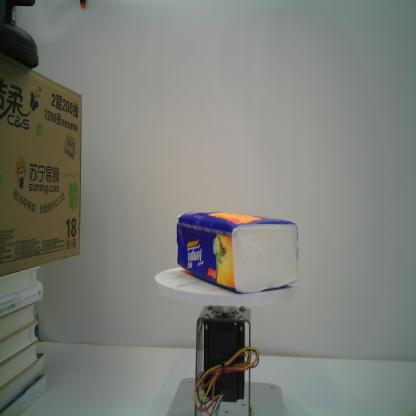Tissue: (174, 208, 303, 297)
